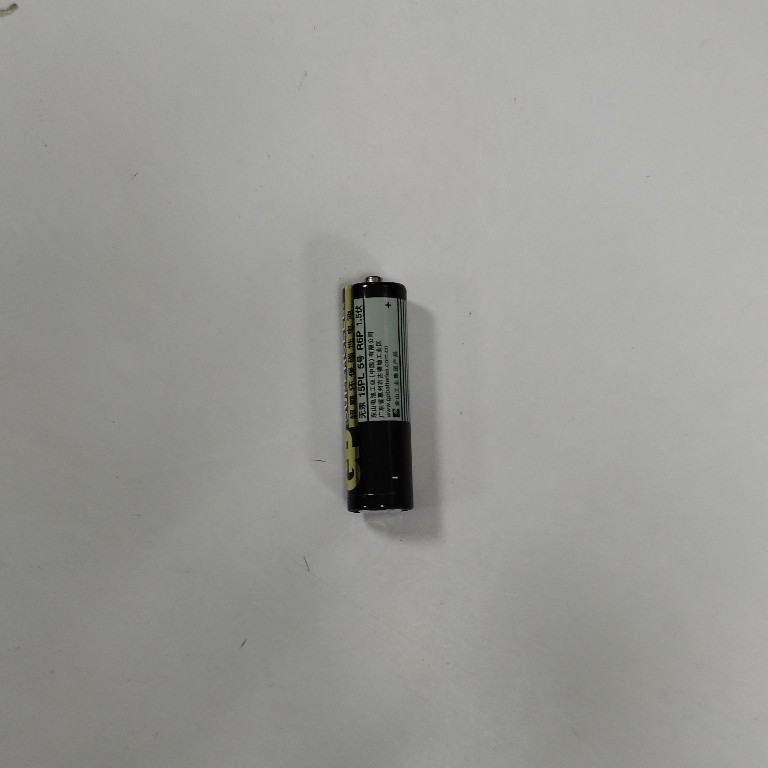charge: (333, 270, 418, 518)
